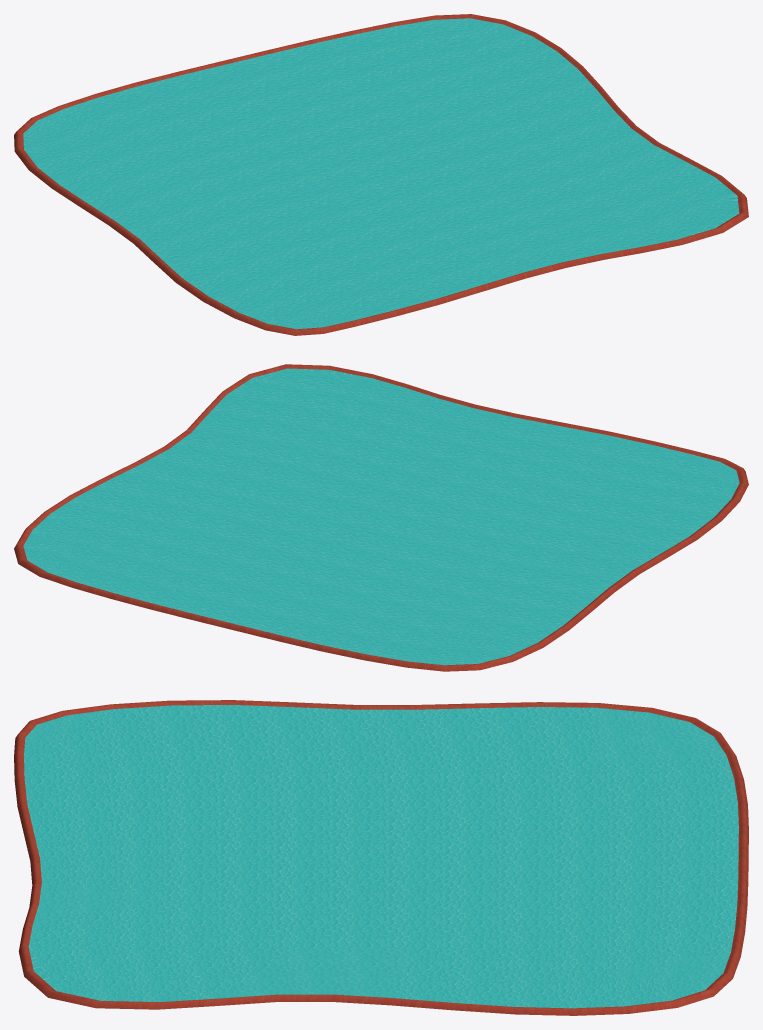
File: base_agua_isla_imposible.glb
The picture shows the model from 3 angles, top to bottom: view 1: azimuth 30°, elevation 25°; view 2: azimuth 150°, elevation 25°; view 3: azimuth 270°, elevation 25°; orthographic projection. The views are drawn at different scales.
Visible parts, largest first — view 1: agua, tierra roja; view 2: agua, tierra roja; view 3: agua, tierra roja.
Boxes of the visible parts, <box> form: agua: <box>23,18,739,329</box>; tierra roja: <box>14,14,748,335</box>; agua: <box>23,368,739,665</box>; tierra roja: <box>14,364,748,671</box>; agua: <box>24,705,738,1008</box>; tierra roja: <box>14,700,748,1015</box>.
Size of what is drawn, in the model's own units: 511 by 4.16 by 508.
2 materials, 2 textured.
